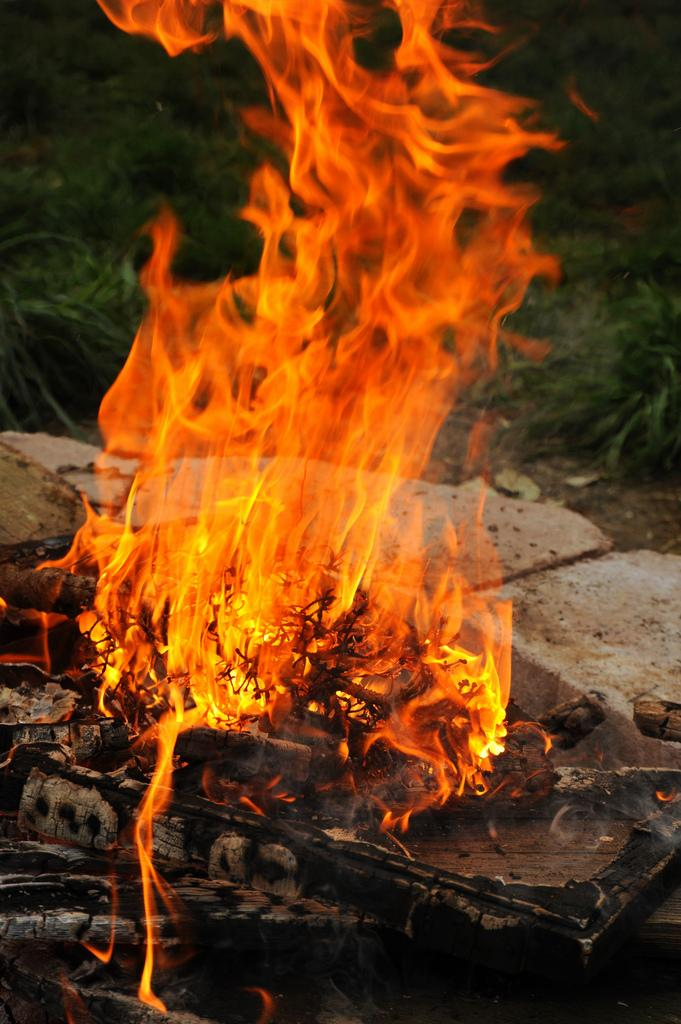fire: (128, 275, 392, 688)
